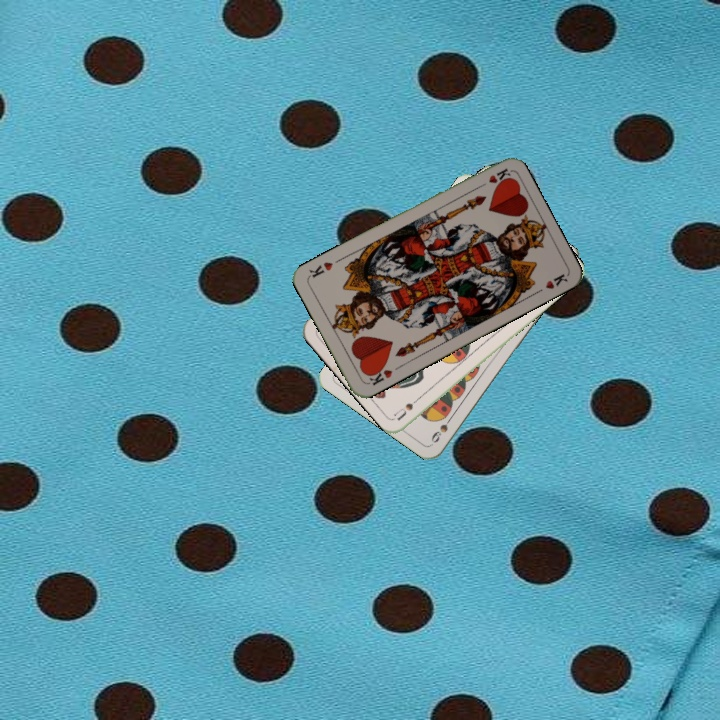HK: (473, 164, 512, 191), (363, 362, 395, 388)
S9: (427, 410, 456, 446)
SU: (390, 390, 426, 423)
